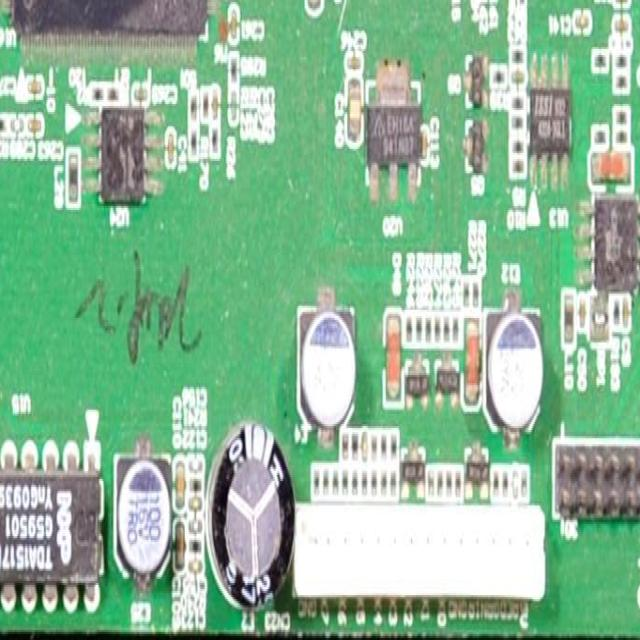IC: (0, 440, 113, 628), (9, 0, 222, 47), (366, 73, 425, 204), (89, 108, 154, 213), (579, 198, 640, 283), (532, 53, 567, 200)
capacitor: (348, 75, 361, 144), (174, 522, 186, 572), (174, 463, 184, 510), (573, 12, 591, 32), (420, 126, 429, 166), (578, 297, 587, 332), (613, 18, 630, 36), (26, 118, 44, 134), (189, 456, 205, 474), (212, 88, 220, 123), (134, 84, 148, 103), (10, 116, 24, 135), (622, 298, 630, 330), (346, 53, 361, 70), (188, 559, 205, 574), (188, 518, 202, 536), (27, 80, 42, 96), (188, 497, 203, 512), (231, 8, 238, 39), (168, 135, 175, 165), (308, 0, 322, 14), (614, 0, 628, 2)
connector: (292, 498, 547, 630)
resistor: (190, 124, 200, 160), (105, 82, 120, 105), (202, 88, 211, 125), (189, 536, 203, 557), (211, 124, 220, 156), (188, 477, 204, 494), (229, 57, 238, 85), (492, 70, 506, 88), (612, 298, 620, 329), (452, 314, 460, 344), (231, 90, 238, 124), (424, 316, 432, 344), (434, 314, 441, 345), (91, 86, 104, 102), (190, 94, 198, 120), (416, 316, 424, 342), (511, 116, 525, 130), (443, 316, 450, 343), (406, 316, 413, 342), (512, 94, 524, 109), (463, 279, 469, 306), (473, 282, 479, 308), (512, 51, 524, 63), (513, 161, 525, 173), (512, 141, 526, 151), (0, 116, 7, 133)
transistor: (434, 367, 458, 398), (470, 120, 484, 172), (469, 57, 483, 105), (464, 458, 488, 486), (404, 373, 428, 400), (404, 458, 426, 486)
